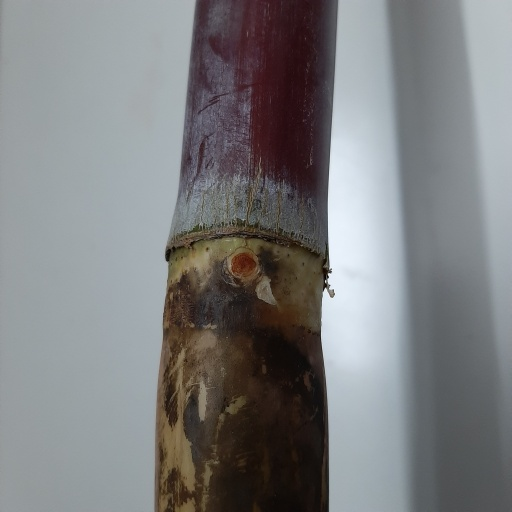Damage_Bud: (228, 248, 260, 285)
